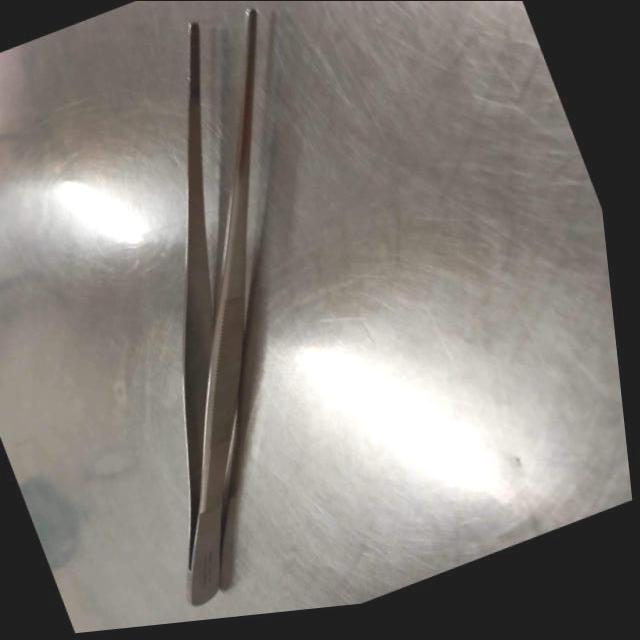Pathological: (0, 1, 635, 635)
Sharps: (182, 6, 260, 607)
